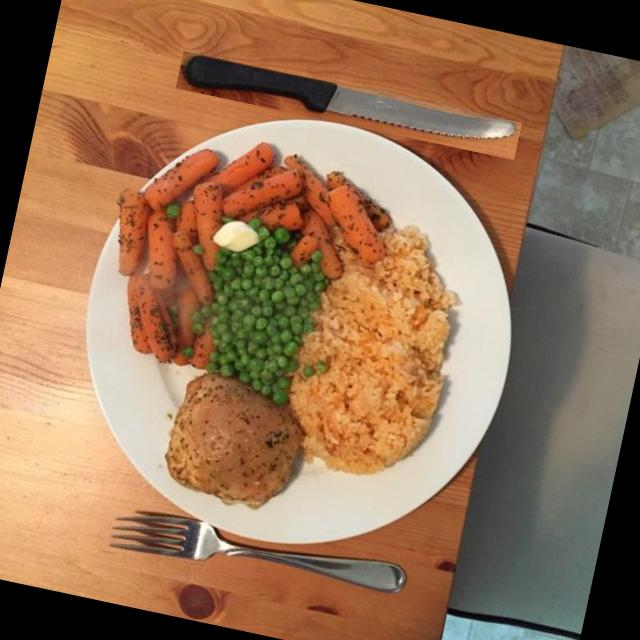Knife: (182, 54, 520, 140)
